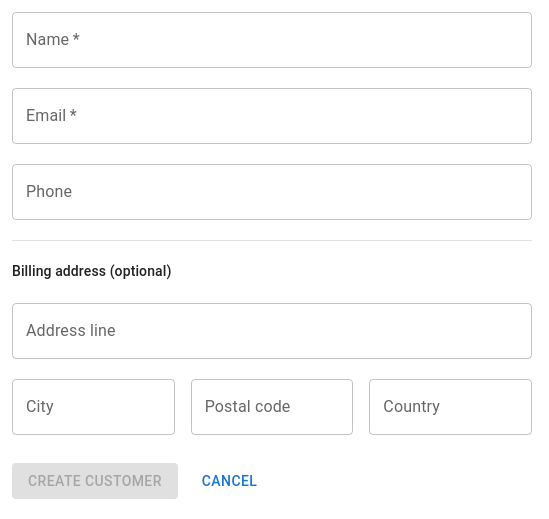
CustomerForm › disables submit until name and email are valid
Expected: the button "Create customer" is disabled, [12,463,178,500]
In the field labelled "Name *": {"x": 272, "y": 40} [12,12,532,68], type "Blue Sky Retail"
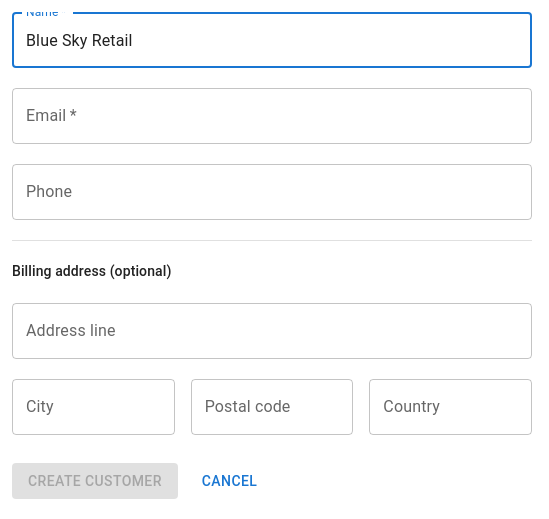
In the field labelled "Email *": {"x": 272, "y": 116} [12,88,532,144], type "orders@blueskyretail.com"
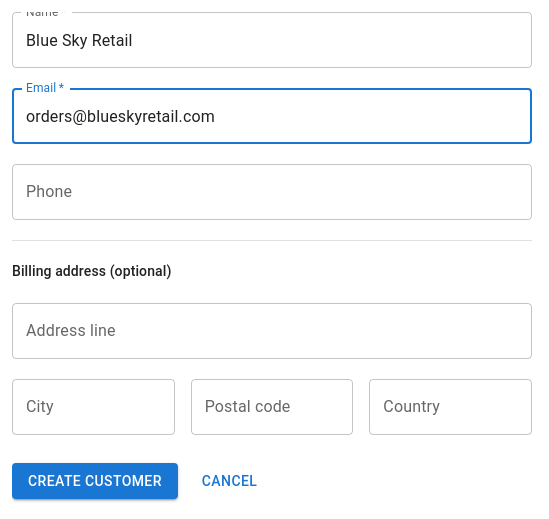
Result: the button "Create customer" is enabled at [12,463,178,500]
